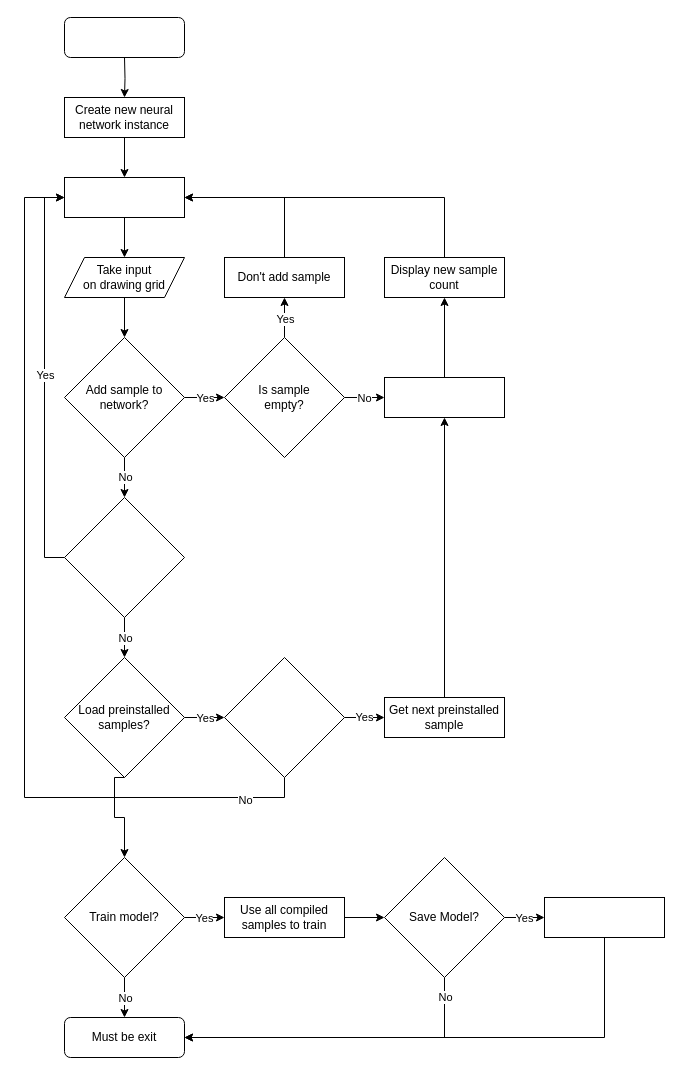
This 682x1075 diagram has some shape labels left out. The box of each missing label's shape, as (x1, y1, x2, y2) in pixels:
Add Sample: (384, 376, 504, 418)
Clear drawing grid: (64, 176, 184, 218)
Clear drawing grid?: (64, 496, 184, 618)
Is there another preinstalled sample?: (224, 656, 344, 778)
Run Learning Mode: (64, 16, 184, 58)
Save model as JSON file: (544, 896, 664, 938)
